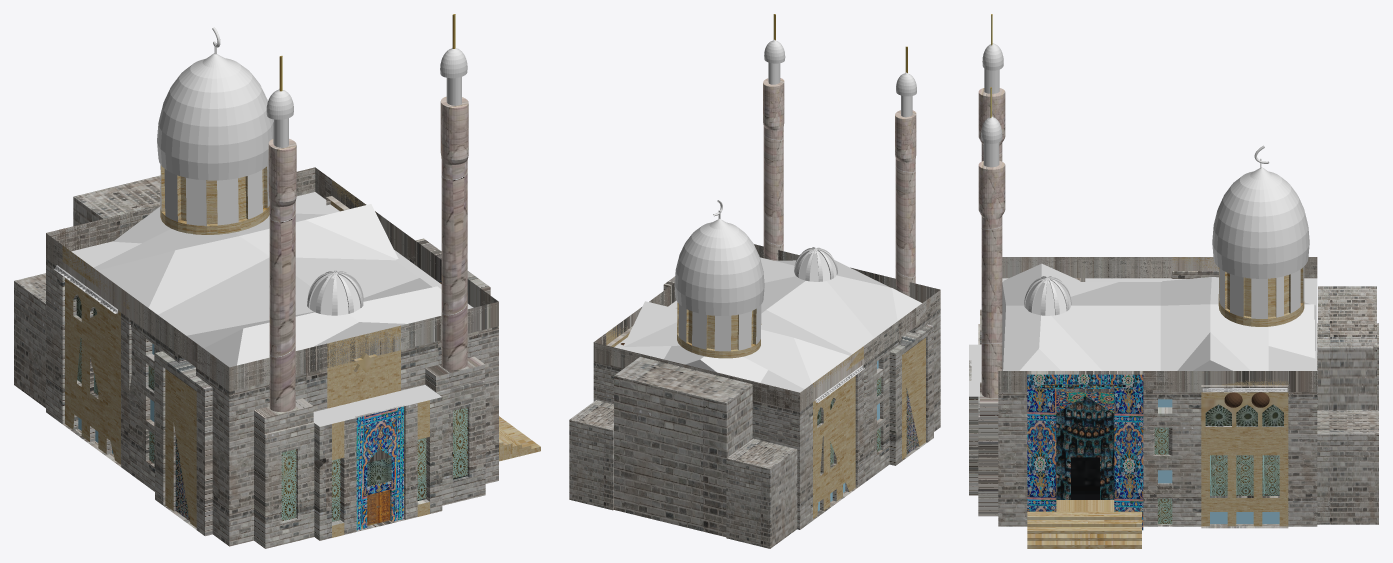
Rendered from Saint Petersburg mosque.fbx.
3 views of the same model, side by side, from view 1: azimuth 30°, elevation 25°; view 2: azimuth 150°, elevation 25°; view 3: azimuth 270°, elevation 25° (orthographic). The views are drawn at different scales.
Parts seen in each view (by area): view 1: Cube, Cube.007, Cylinder, Cube.038, Cylinder.002, Cylinder.003, Cube.026, Cube.027, Cube.004, Cube.034, Cylinder.008, Cylinder.001 (+12 smaller); view 2: Cube.006, Cube, Cube.007, Cylinder, Cube.004, Cube.038, Cube.003, Cylinder.003, Cylinder.002, Cylinder.008, Cube.034, Cylinder.001 (+3 smaller); view 3: Cube, Cube.007, Cube.010, Cylinder, Cube.006, Cube.003, Cube.009, Cylinder.002, Cube.011, Cube.005, Cylinder.008, Cylinder.001 (+14 smaller).
Part boxes in pixels (left/top/right/bottom): Cube: left=46, top=167, right=498, bottom=548; Cube.007: left=93, top=204, right=441, bottom=367; Cylinder: left=157, top=43, right=273, bottom=180; Cube.038: left=62, top=246, right=129, bottom=464; Cylinder.002: left=440, top=96, right=468, bottom=369; Cylinder.003: left=268, top=139, right=296, bottom=411; Cube.026: left=327, top=325, right=400, bottom=408; Cube.027: left=356, top=406, right=403, bottom=530; Cube.004: left=14, top=273, right=45, bottom=407; Cube.034: left=165, top=369, right=196, bottom=527; Cylinder.008: left=160, top=164, right=269, bottom=225; Cylinder.001: left=160, top=165, right=269, bottom=234; Cube.006: left=614, top=357, right=752, bottom=536; Cube: left=593, top=244, right=940, bottom=529; Cube.007: left=623, top=257, right=921, bottom=388; Cylinder: left=674, top=210, right=764, bottom=315; Cube.004: left=726, top=438, right=797, bottom=548; Cube.038: left=813, top=346, right=863, bottom=518; Cube.003: left=569, top=400, right=613, bottom=510; Cylinder.003: left=895, top=110, right=916, bottom=296; Cylinder.002: left=763, top=78, right=784, bottom=260; Cylinder.008: left=678, top=304, right=761, bottom=351; Cube.034: left=902, top=338, right=925, bottom=459; Cylinder.001: left=677, top=302, right=761, bottom=358; Cube: left=969, top=257, right=1317, bottom=528; Cube.007: left=1002, top=263, right=1315, bottom=370; Cube.010: left=1027, top=374, right=1143, bottom=530; Cylinder: left=1212, top=158, right=1309, bottom=278; Cube.006: left=1318, top=286, right=1376, bottom=409; Cube.003: left=1317, top=410, right=1378, bottom=524; Cube.009: left=1201, top=372, right=1288, bottom=526; Cylinder.002: left=978, top=161, right=1005, bottom=398; Cube.011: left=1056, top=396, right=1114, bottom=499; Cube.005: left=1027, top=511, right=1141, bottom=548; Cylinder.008: left=1219, top=266, right=1304, bottom=318; Cylinder.001: left=1218, top=267, right=1304, bottom=326.
Size of the model in its own units: 1175 by 1607 by 1427.
